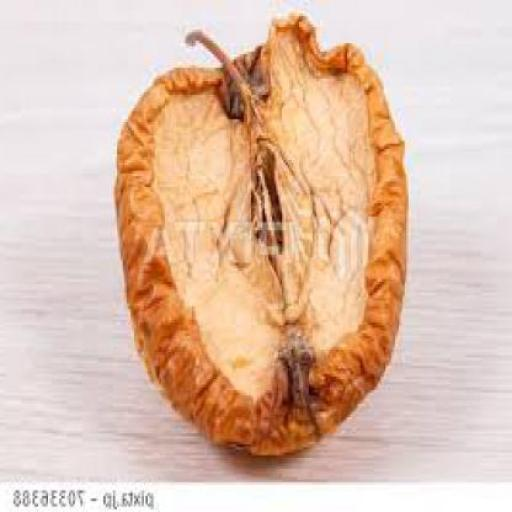biodegradable: (119, 11, 410, 455)
